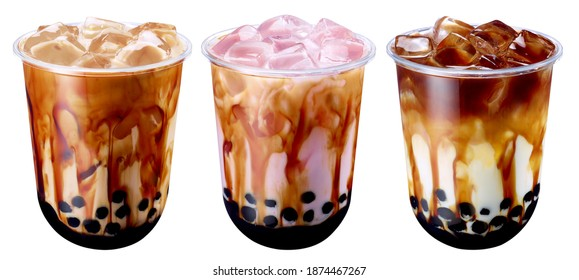plastic_glass: (8, 12, 194, 257), (195, 8, 382, 251), (383, 13, 561, 258)
